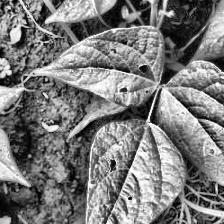ALS: (76, 117, 174, 224), (158, 64, 224, 213), (55, 27, 156, 105), (44, 0, 119, 22)
